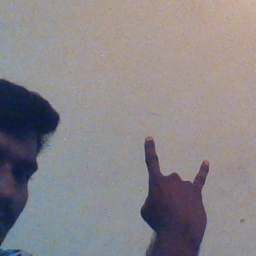V: (137, 130, 218, 236)
